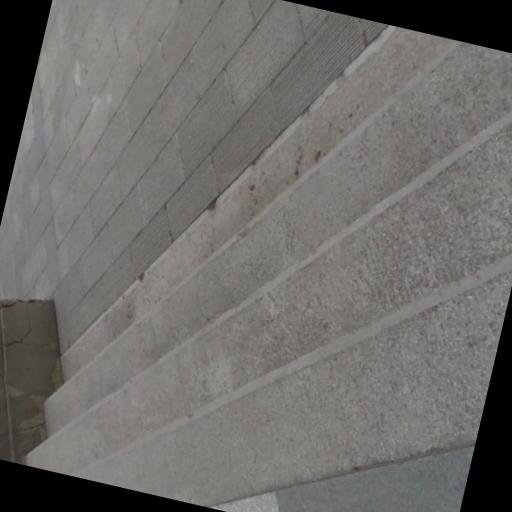stairs: (28, 42, 511, 506)
